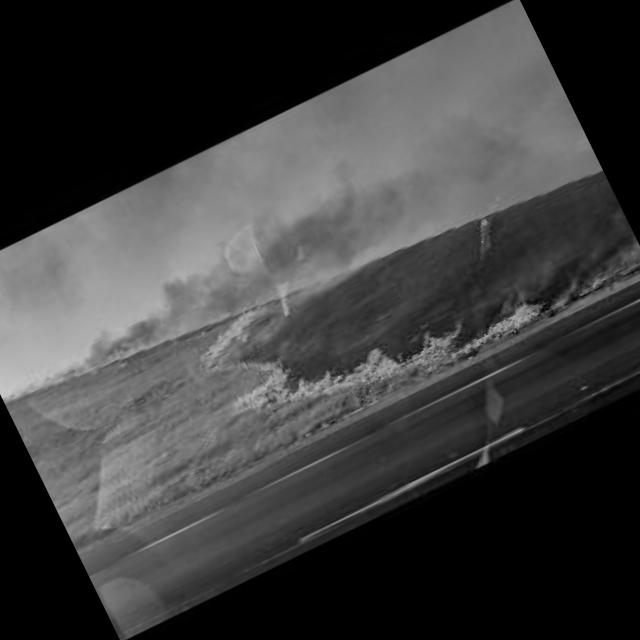fire: (188, 183, 542, 458), (0, 321, 154, 420)
smoke: (106, 156, 404, 363)
